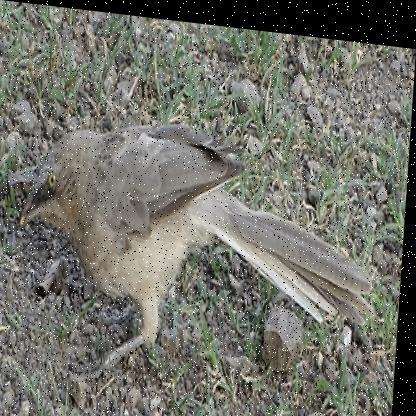Burung: (15, 107, 383, 406)
